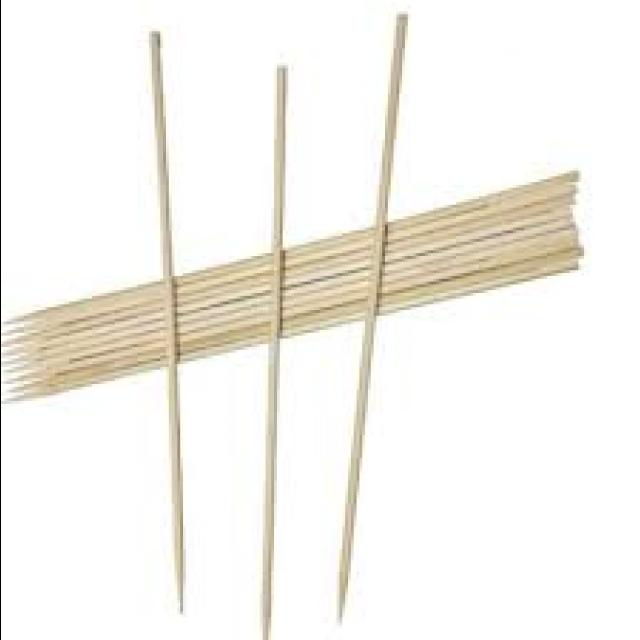stick: (338, 14, 407, 621), (149, 31, 182, 614), (262, 68, 284, 640)
